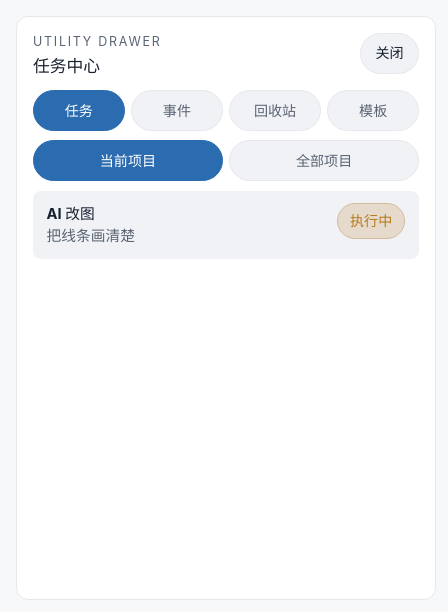
Scenario: switches between tasks, events and recycle tabs in the shared utility drawer
Check: the text "把线条画清楚" is shown, box left=47, top=225, right=135, bottom=247
What coordinates should you click on to do the following:
click the button "事件"
I would click on:
 (177, 110)
Its box is left=131, top=90, right=223, bottom=131.
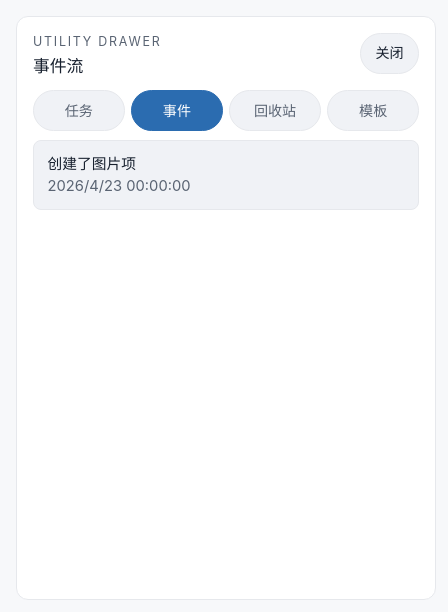
Check: the text "创建了图片项" is shown, box left=48, top=155, right=136, bottom=173
What coordinates should you click on to do the following:
click the button "回收站"
I would click on:
 (275, 110)
Its box is left=229, top=90, right=321, bottom=131.
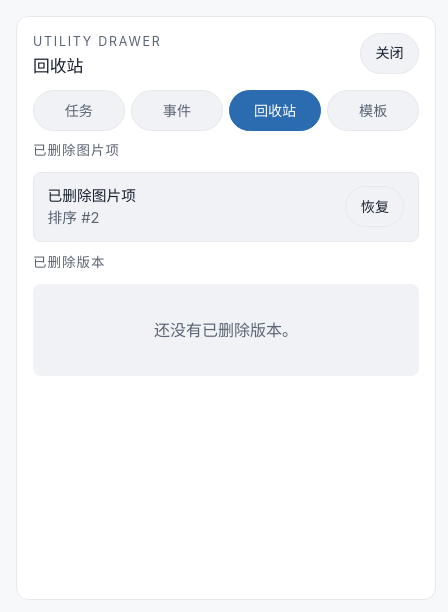
Check: the 1st text "已删除图片项" is shown, box left=33, top=142, right=120, bottom=158
